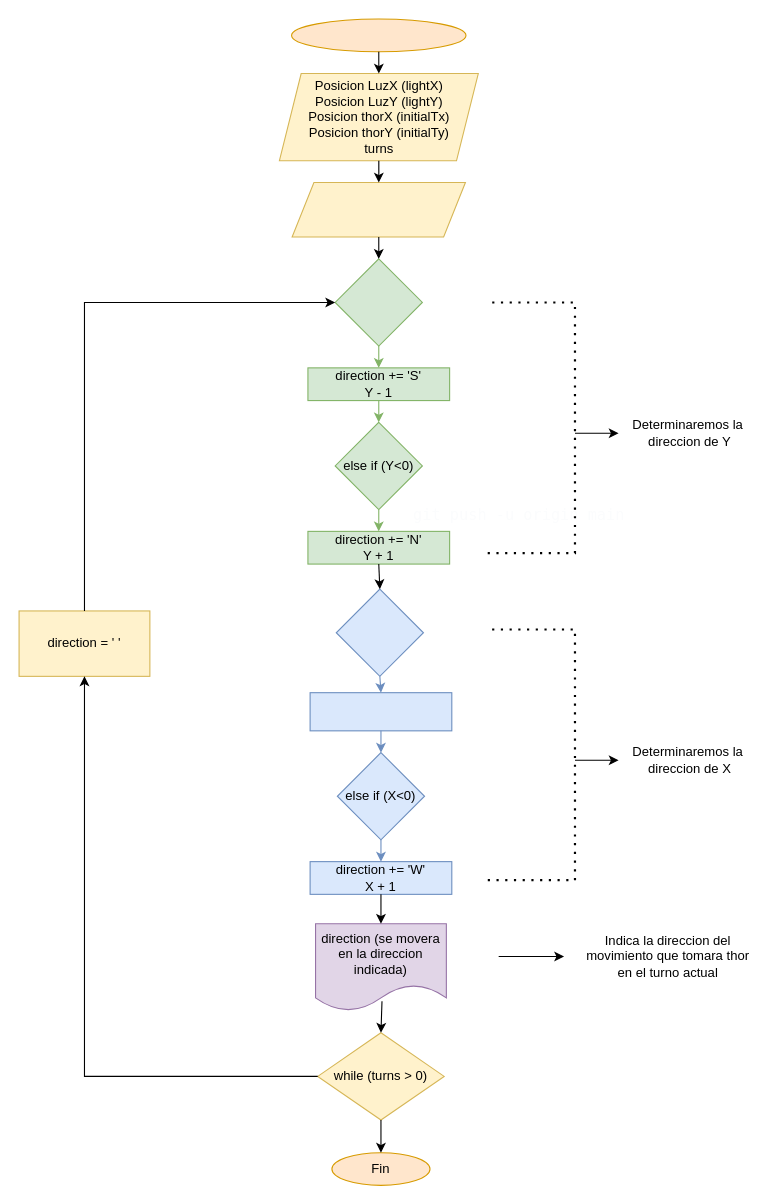
Some shapes in this 779 by 1204 pixel diagram are drawn without their labels. The shapes that lost their labels are listed below. From the top down, each one's centre as x and y in pixels, then its label:
At point 378,35: "Inicio".
At point 378,209: "X = lightX - InitialTx Y = lightY - initialTy direction = ' '".
At point 378,302: "if (Y>0)".
At point 379,632: "if (X>0)".
At point 380,711: "direction += 'E' X - 1".
